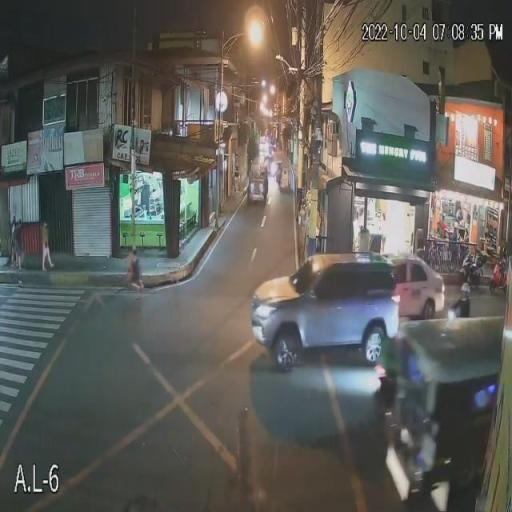helmet: (460, 282, 471, 298)
rider: (455, 299, 472, 318)
